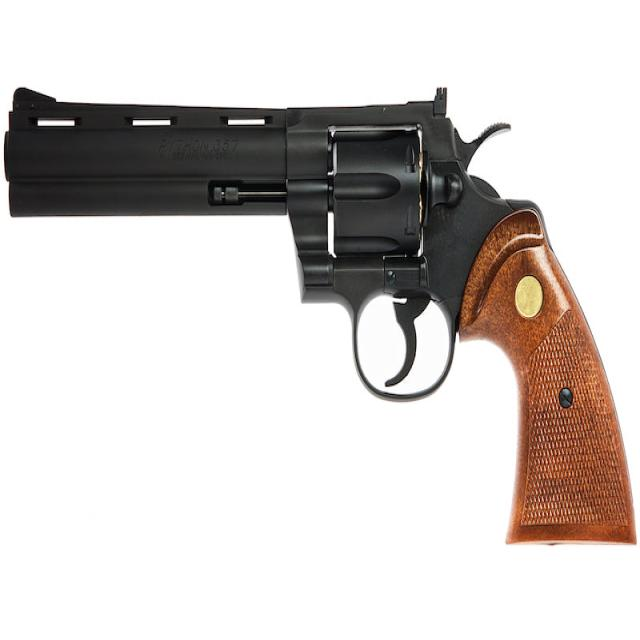handgun: (7, 79, 639, 547)
